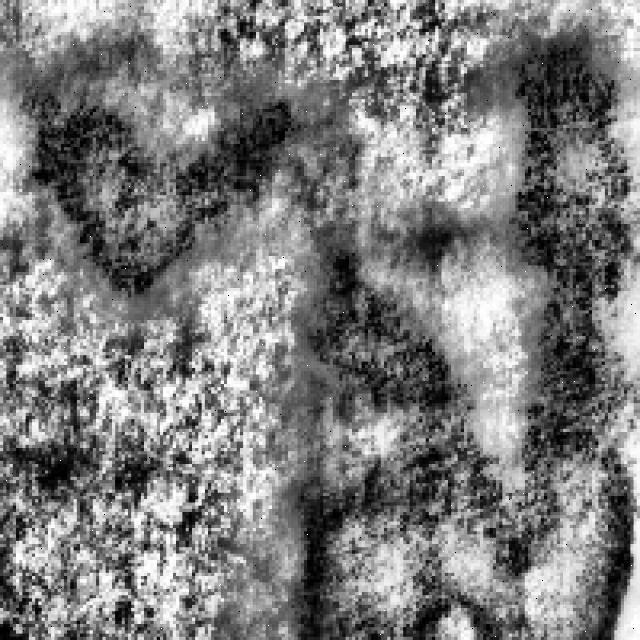Scratches: (410, 29, 630, 637), (275, 214, 547, 634), (16, 54, 285, 288)
